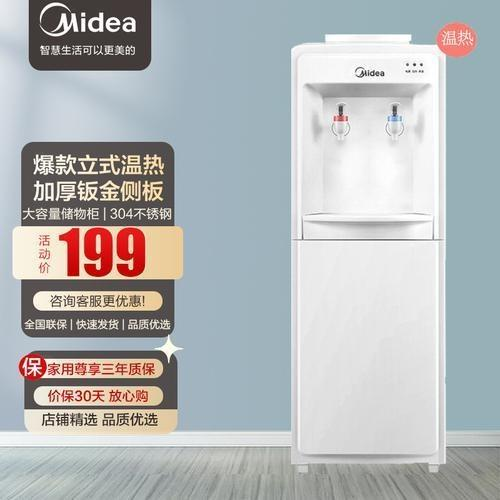Dispenser: (289, 32, 445, 472)
